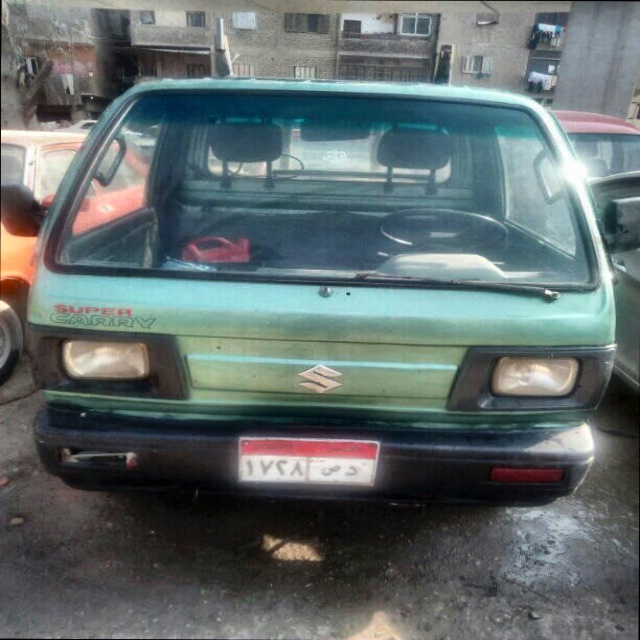License Plate: (236, 436, 379, 490)
